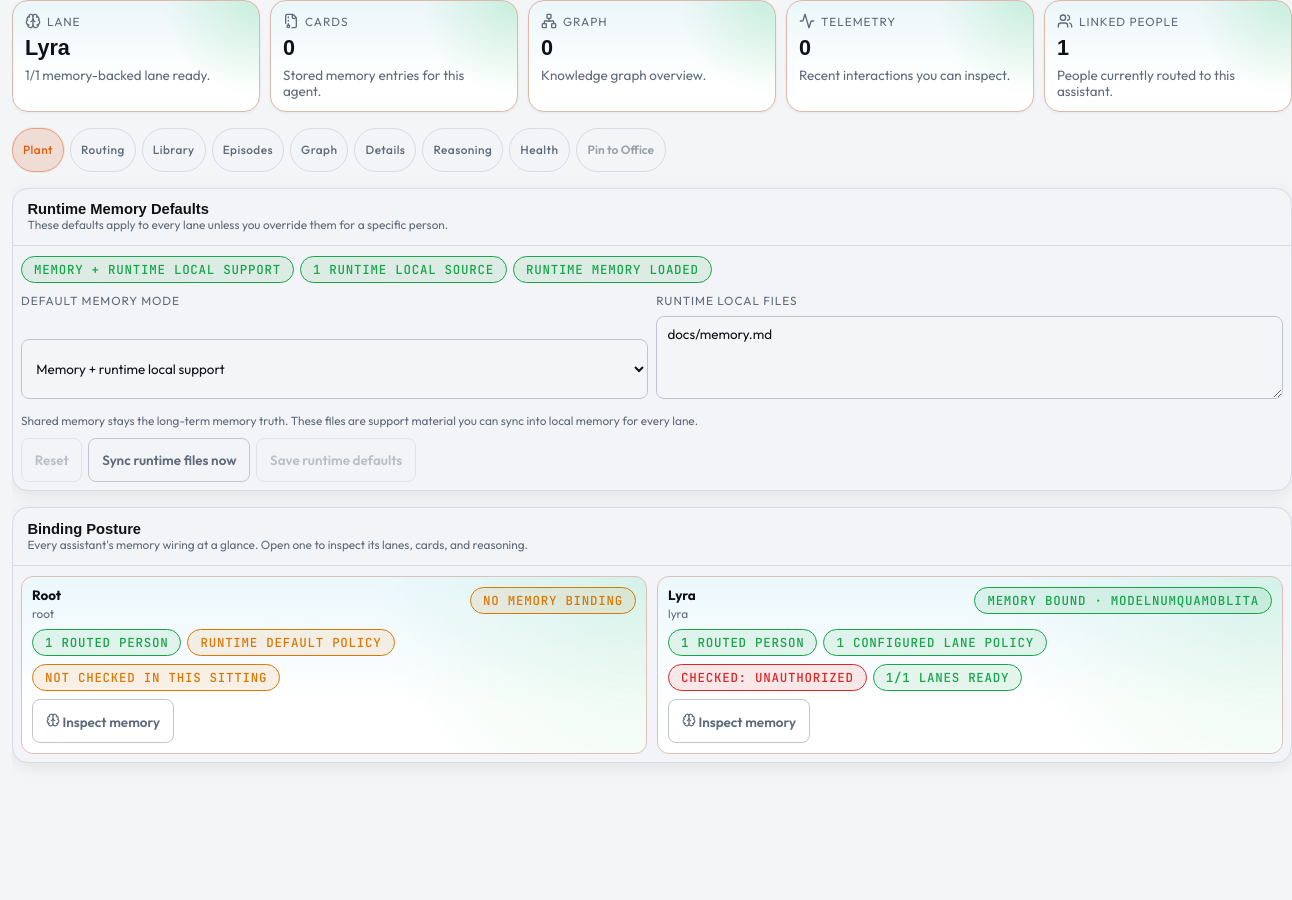
Test: MemoryPage surface gating and honest partial states › tells the truth about an unauthorized binding
Click the button "Library".
click(174, 150)  # box [142,128,206,172]
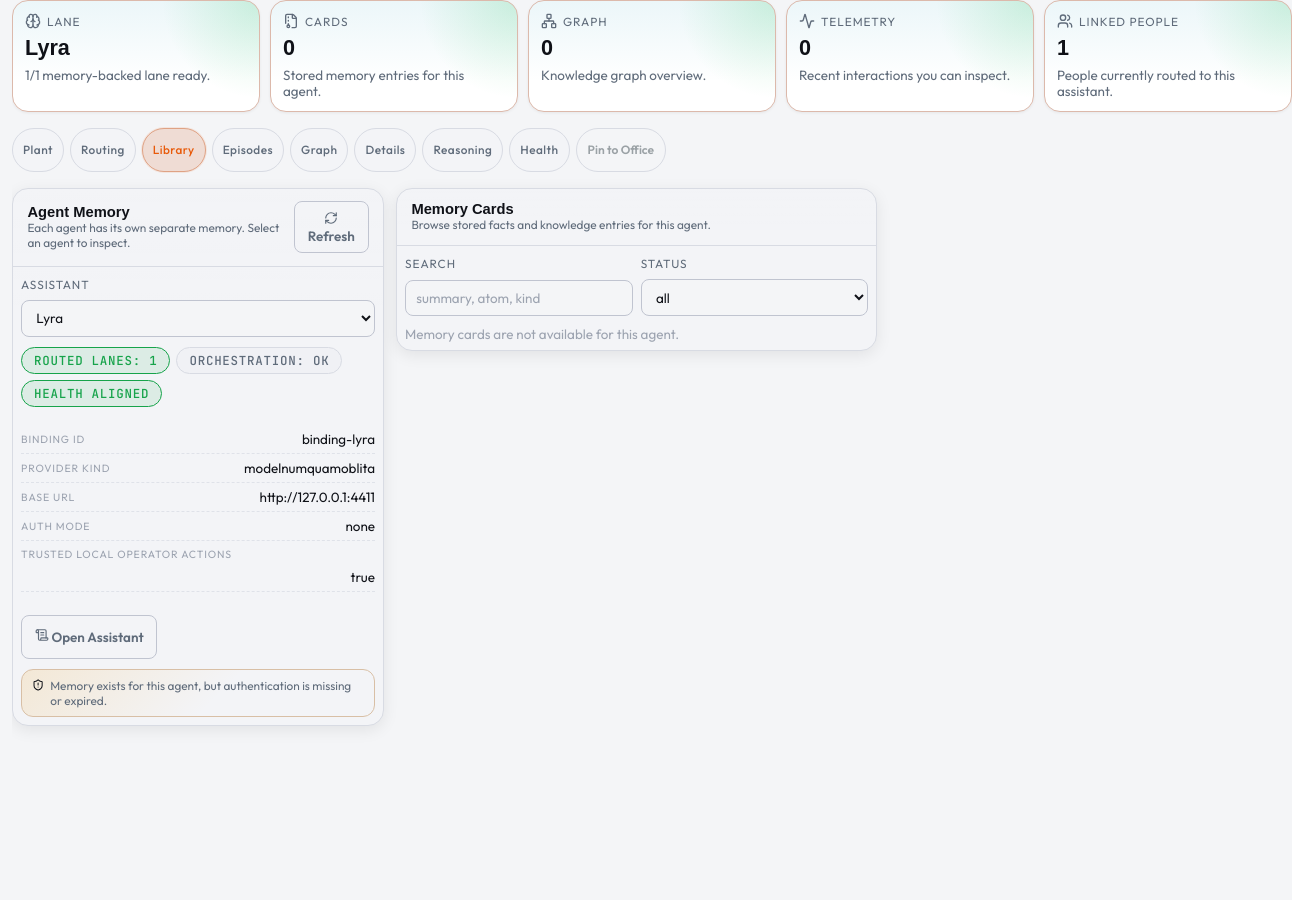
Expected: the text "authentication is missing or expired" is shown, [50,678,351,708]
